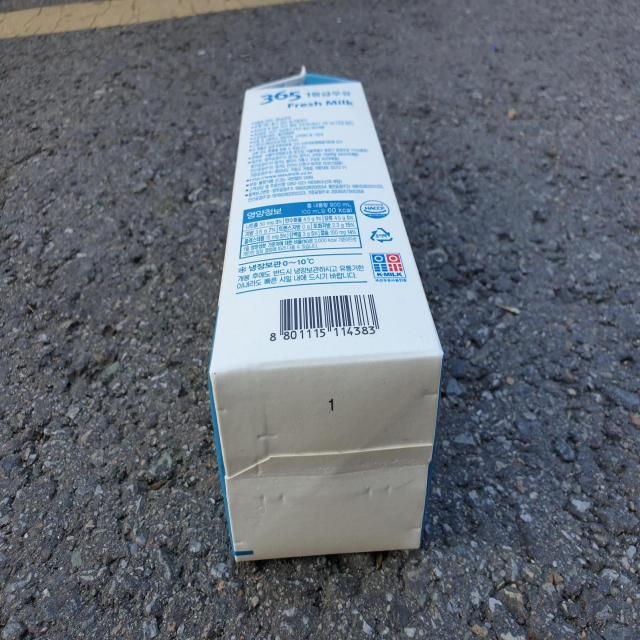paperpack: (209, 67, 444, 561)
